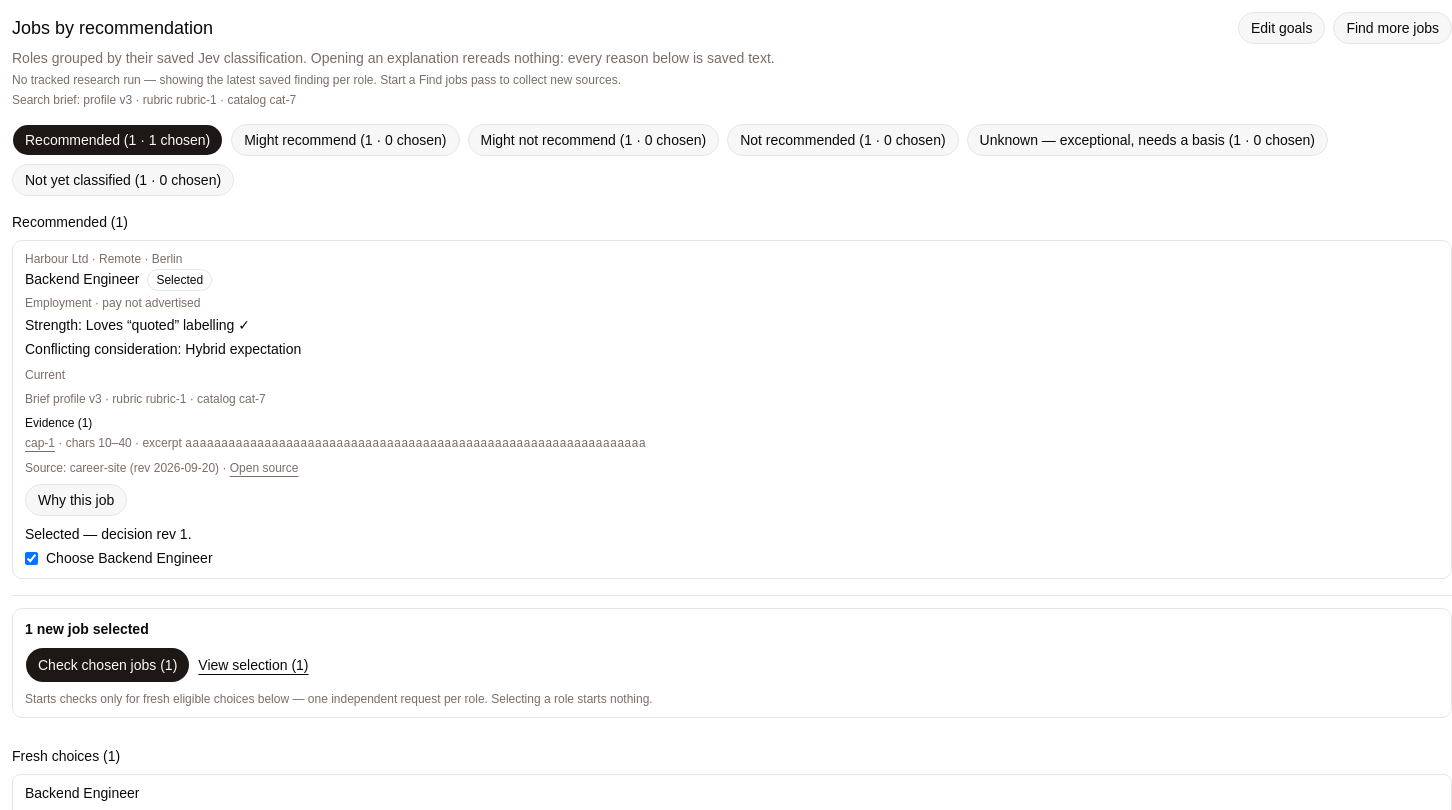
Test: GroupedJobs › leads cards with the principal saved reason, conflict and unknown basis
Expected: the heading "Recommended (1)" is shown, [12, 214, 128, 230]
Expected: the text "Strength: Loves “quoted” labelling ✓" is shown, [25, 317, 250, 333]
Step 1. Click the tab "Unknown — exceptional, needs a basis (1 · 0 chosen)" → coordinates (1147, 140), box [967, 124, 1328, 156]
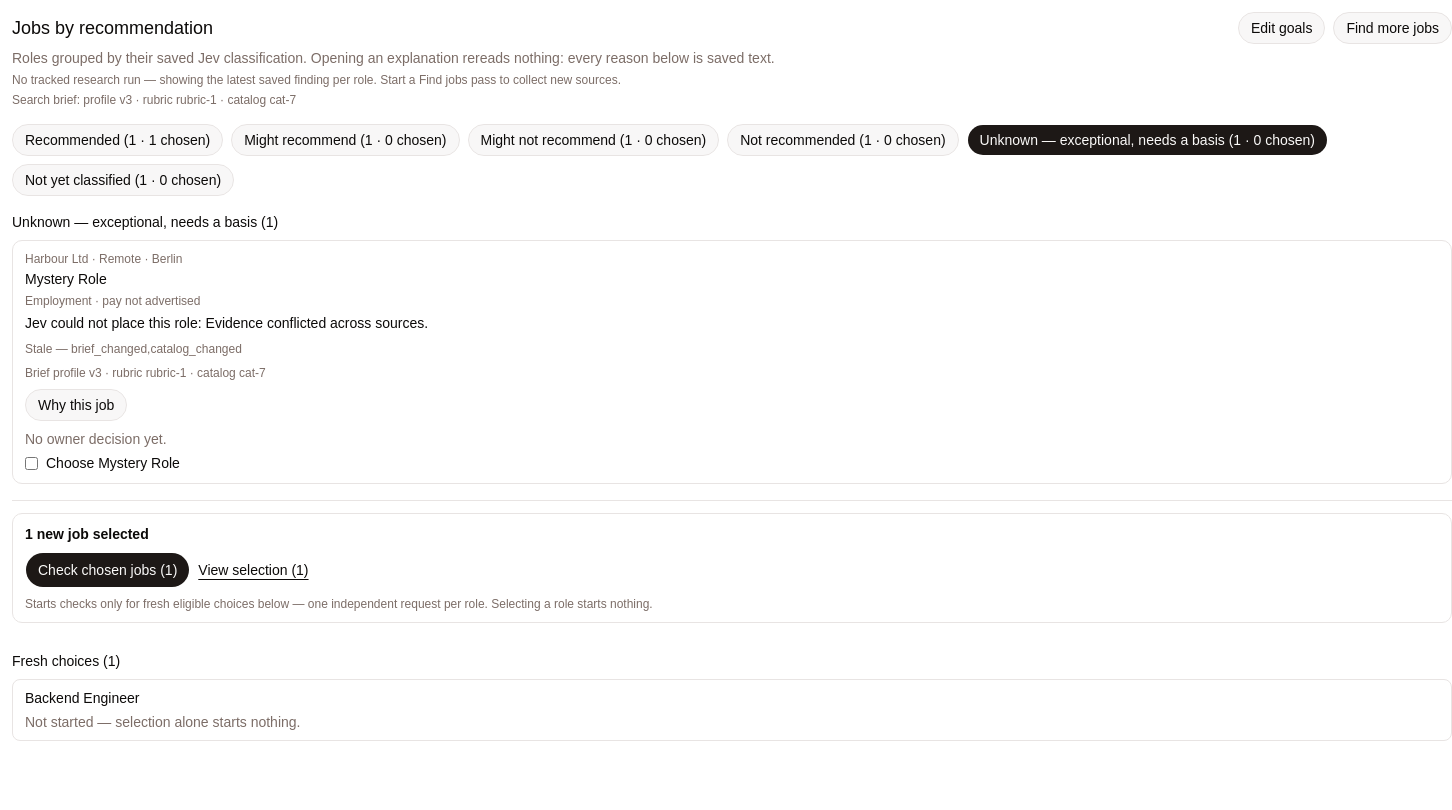
Now the text "Jev could not place this role: Evidence conflicted across sources." is shown, box [25, 315, 428, 331]
